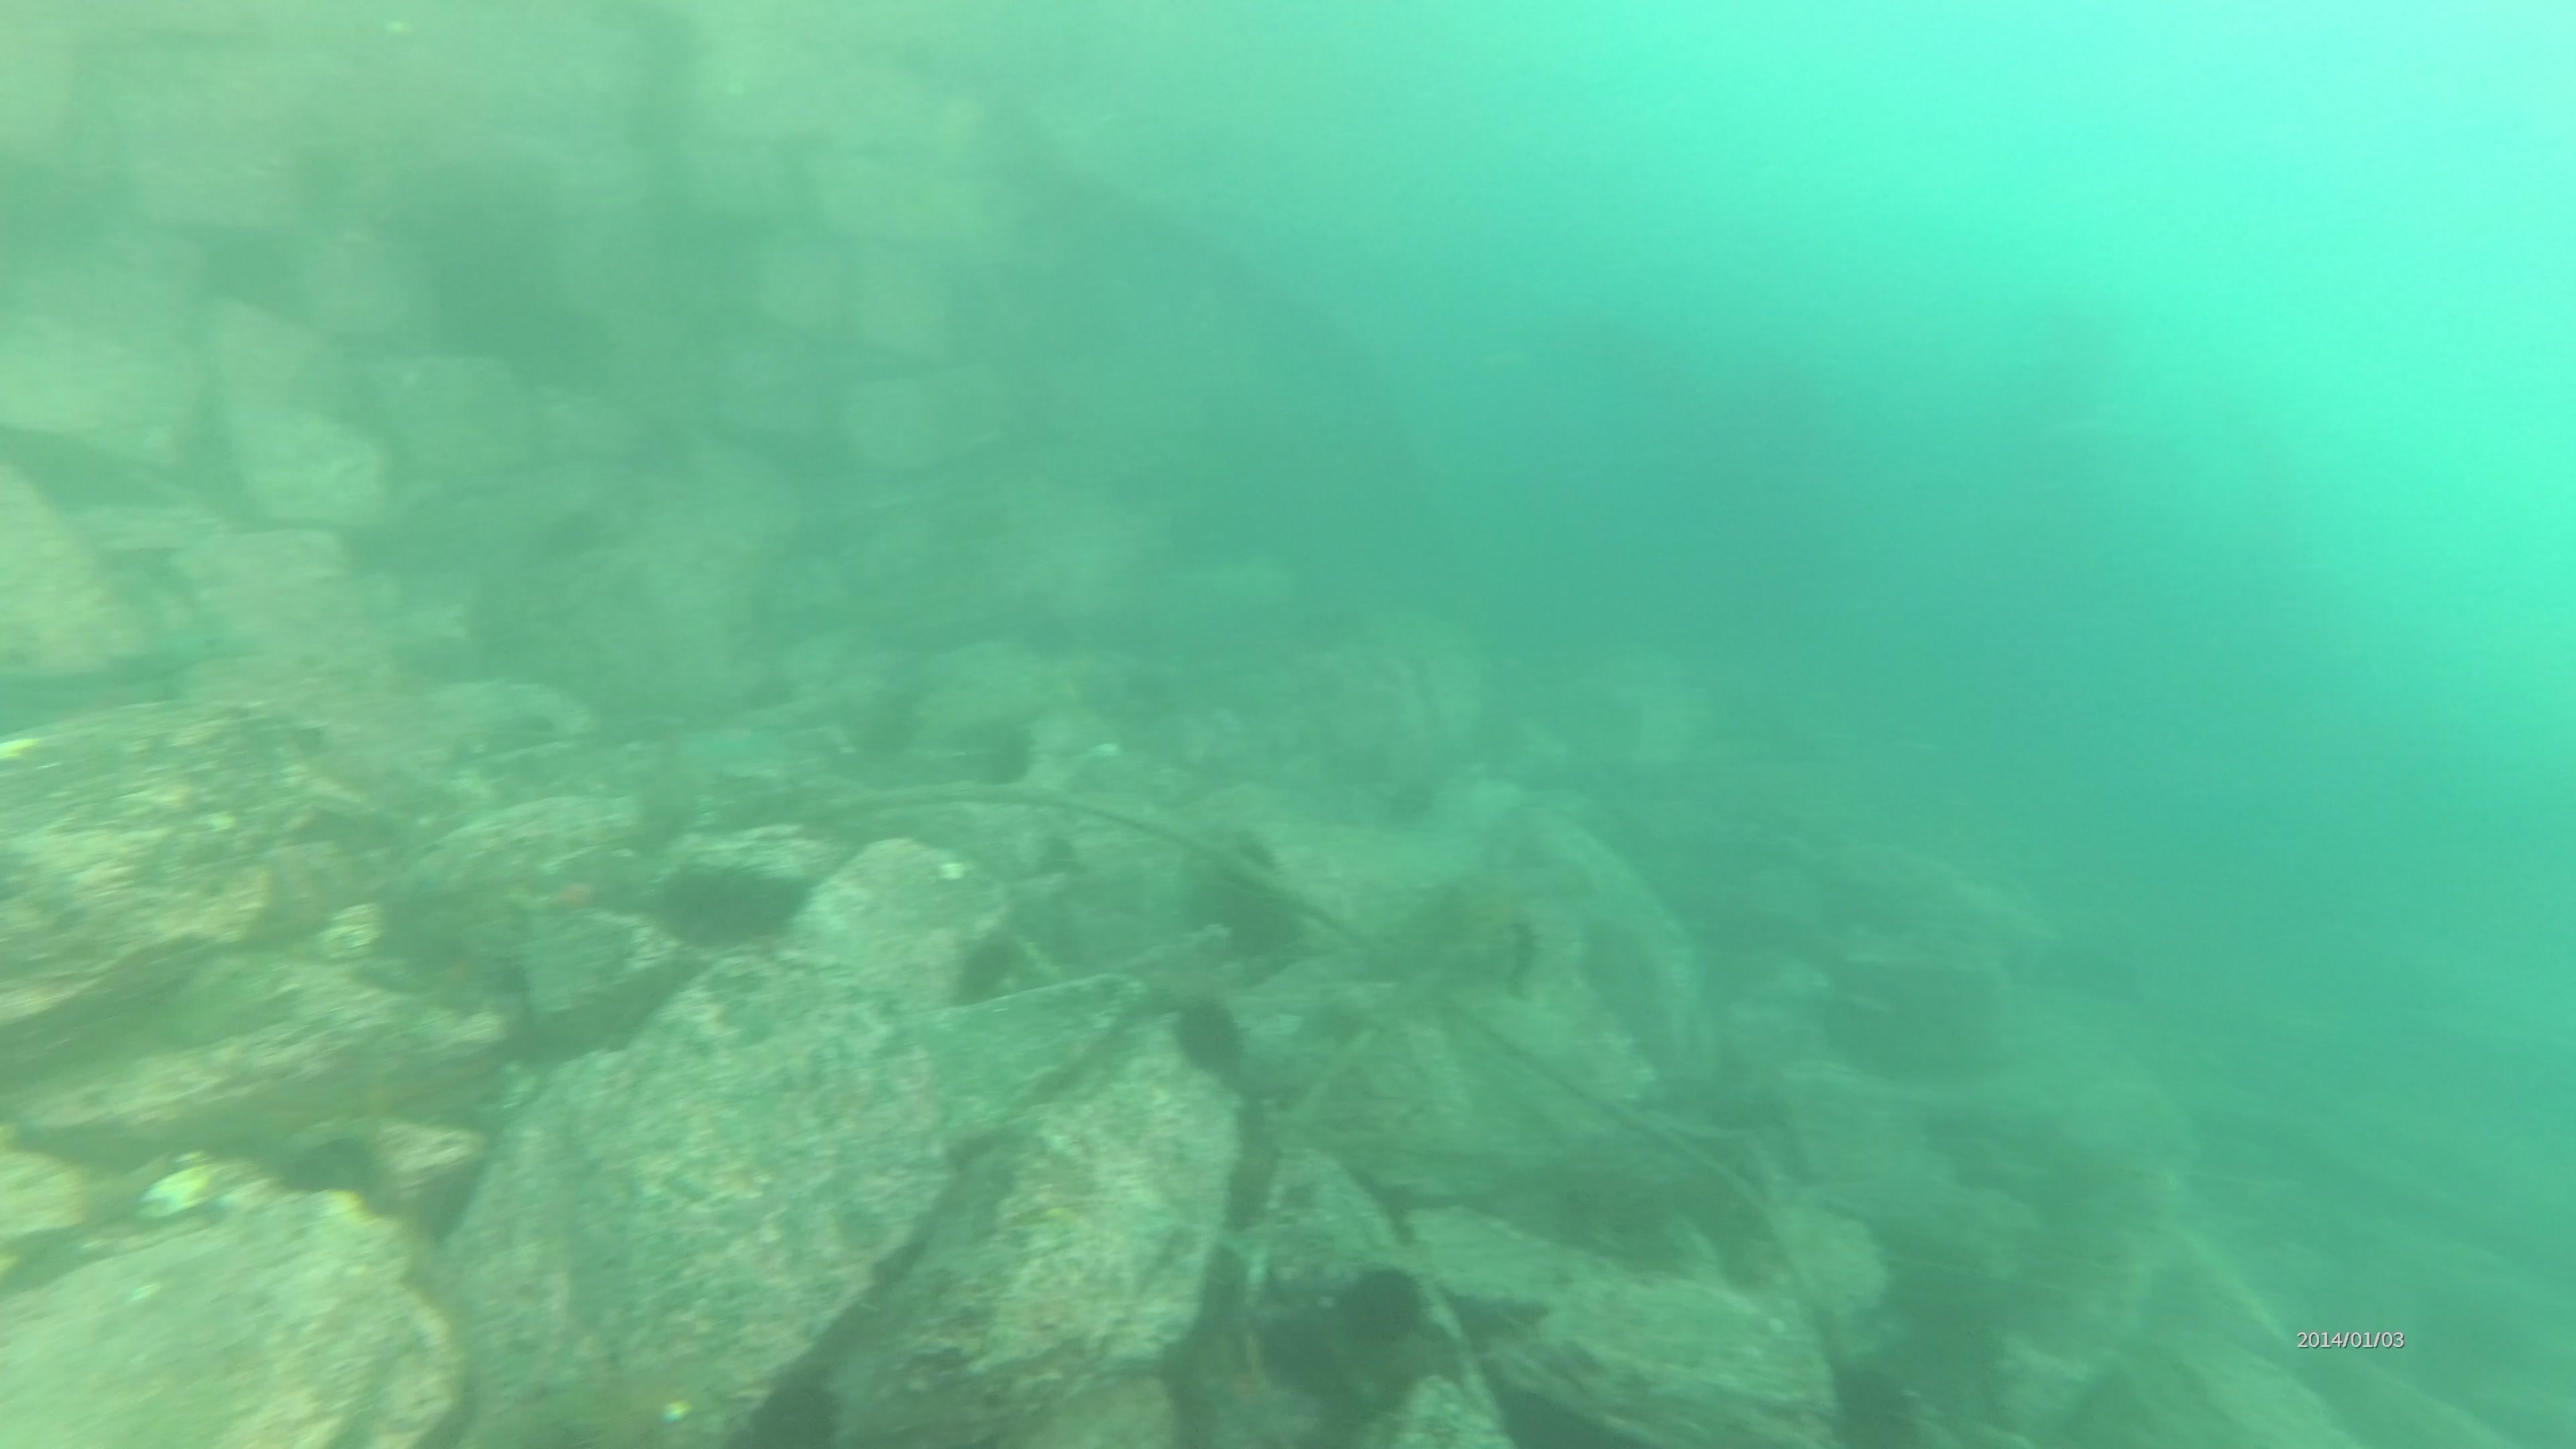echinus: (648, 849, 809, 957), (1410, 863, 1545, 993), (1184, 856, 1311, 970), (1327, 1258, 1433, 1361), (1819, 1353, 1928, 1449), (1161, 987, 1254, 1083), (954, 708, 1044, 793)
